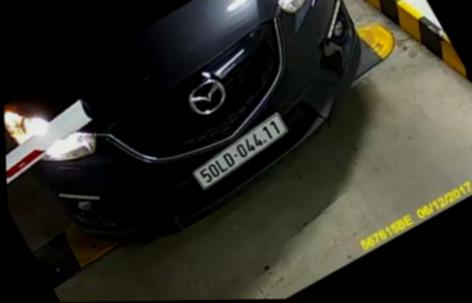License_Plate: (183, 107, 296, 201)
